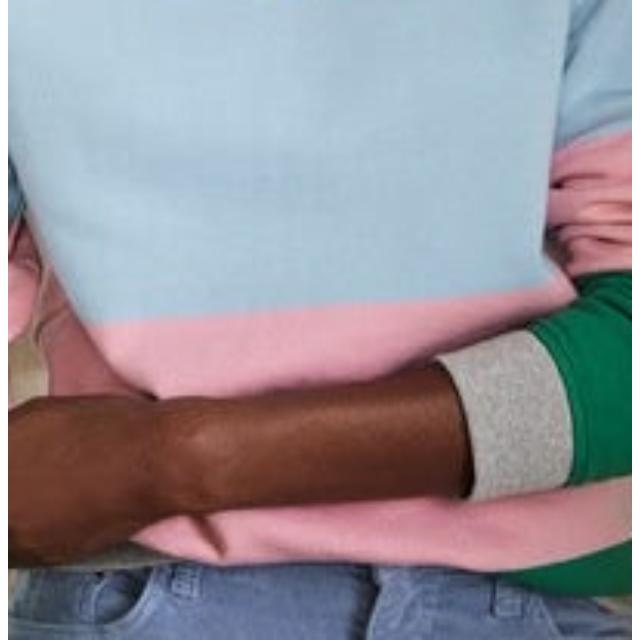cotton: (8, 0, 632, 324)
